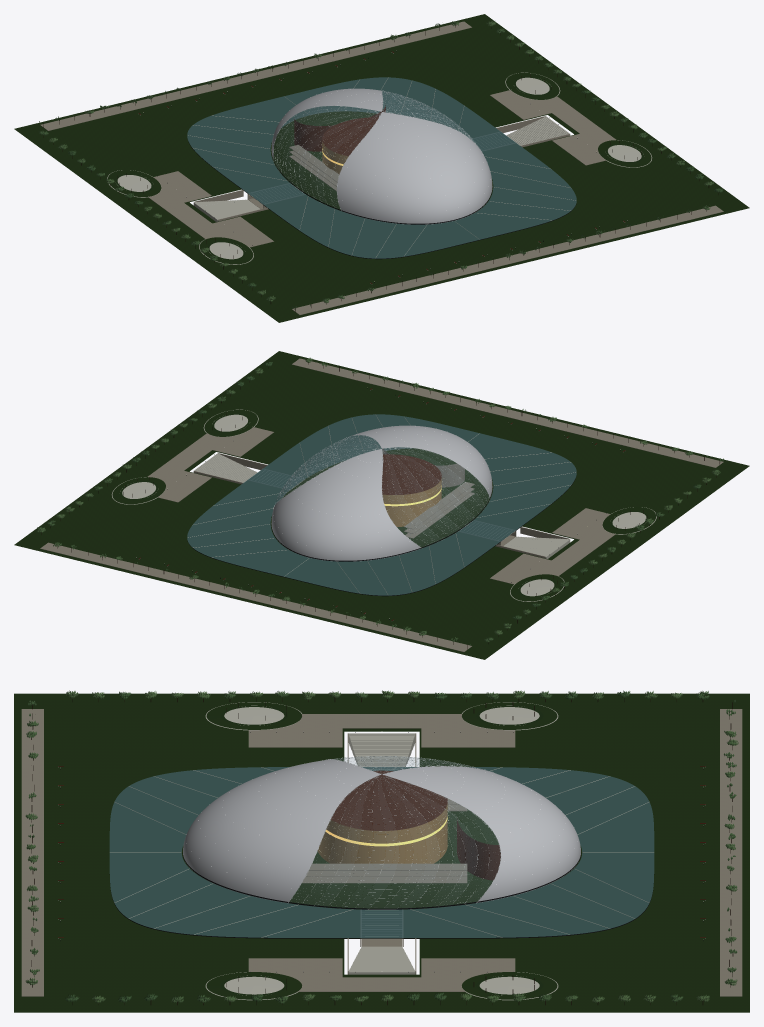
Rendered from beijing-ncpa-compatible.glb.
3 renders of one model, top to bottom at view 1: azimuth 30°, elevation 25°; view 2: azimuth 150°, elevation 25°; view 3: azimuth 270°, elevation 25°, orthographic. The views are drawn at different scales.
Parts seen in each view (by area): view 1: Site supporting ground, Reflecting pool surface, Shell joint backing, Tree line walkway, North south arrival plaza, Elliptical lawn garden, South glass panes tint 2, Raised elliptical garden edging, South glass panes tint 1, Sunken arrival stair treads, South glass panes tint 3, Opera flat roof (+7 smaller); view 2: Site supporting ground, Reflecting pool surface, Shell joint backing, Tree line walkway, North south arrival plaza, Elliptical lawn garden, South glass panes tint 1, South glass panes tint 2, Raised elliptical garden edging, South glass panes tint 3, Opera flat roof, Sunken arrival stair treads (+10 smaller); view 3: Site supporting ground, Reflecting pool surface, Shell joint backing, Tree line walkway, North south arrival plaza, North glass panes tint 1, North glass panes tint 2, North glass panes tint 3, Elliptical lawn garden, Opera flat roof, Central opera gold envelope, Raised elliptical garden edging (+11 smaller).
Boxes of the visible parts, x1,y1,x2,y2 form: Site supporting ground: (14,14,749,322); Reflecting pool surface: (187,77,576,258); Shell joint backing: (271,88,492,224); Tree line walkway: (40,21,723,314); North south arrival plaza: (148,90,616,247); Elliptical lawn garden: (107,72,651,264); South glass panes tint 2: (275,108,379,208); Raised elliptical garden edging: (107,72,652,264); South glass panes tint 1: (273,106,379,206); Sunken arrival stair treads: (193,116,570,221); South glass panes tint 3: (277,110,378,203); Opera flat roof: (322,117,378,156); Site supporting ground: (14,351,749,659); Reflecting pool surface: (187,414,576,595); Shell joint backing: (271,425,492,561); Tree line walkway: (40,358,723,651); North south arrival plaza: (147,427,615,584); Elliptical lawn garden: (112,409,656,601); South glass panes tint 1: (382,448,487,546); South glass panes tint 2: (383,447,489,544); Raised elliptical garden edging: (111,409,656,601); South glass panes tint 3: (384,449,484,541); Opera flat roof: (382,454,441,494); Sunken arrival stair treads: (193,453,570,558); Site supporting ground: (14,693,749,1012); Reflecting pool surface: (109,767,654,937); Shell joint backing: (183,759,580,902); Tree line walkway: (21,709,742,996); North south arrival plaza: (248,714,515,991); North glass panes tint 1: (290,776,489,908); North glass panes tint 2: (302,776,500,908); North glass panes tint 3: (316,776,477,908); Elliptical lawn garden: (206,702,557,999); Opera flat roof: (331,770,447,830); Central opera gold envelope: (317,803,447,863); Raised elliptical garden edging: (205,702,558,1000).
Size of the model in its own units: 402 by 51.41 by 392.
Materials: 23 (6 with a texture image).
